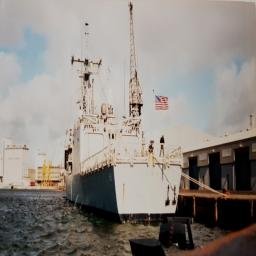Fragata: (61, 2, 188, 224)
